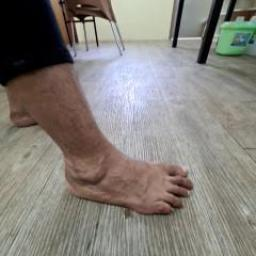Lateral View -Right Foot-: (47, 130, 202, 229)
